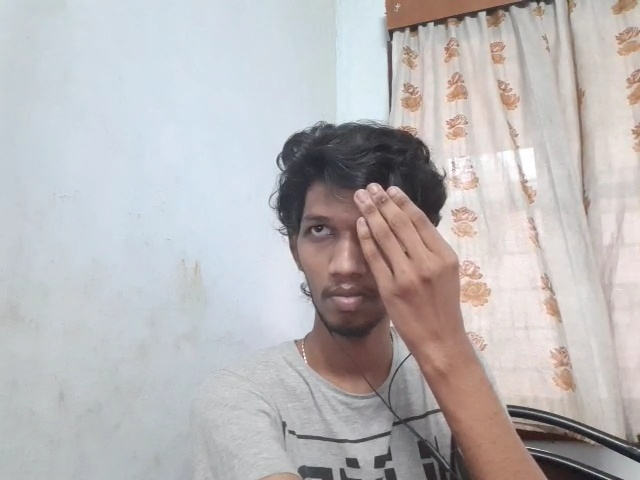Welcome: (353, 181, 482, 350)
